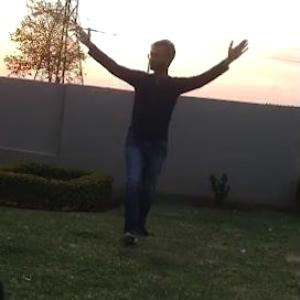takeoff: (76, 21, 265, 238)
